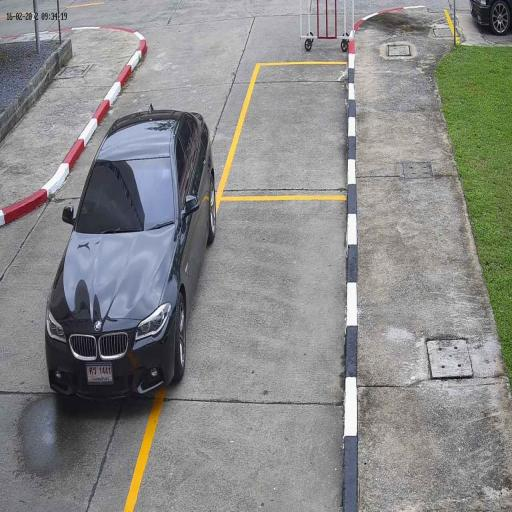car: (43, 106, 218, 400)
